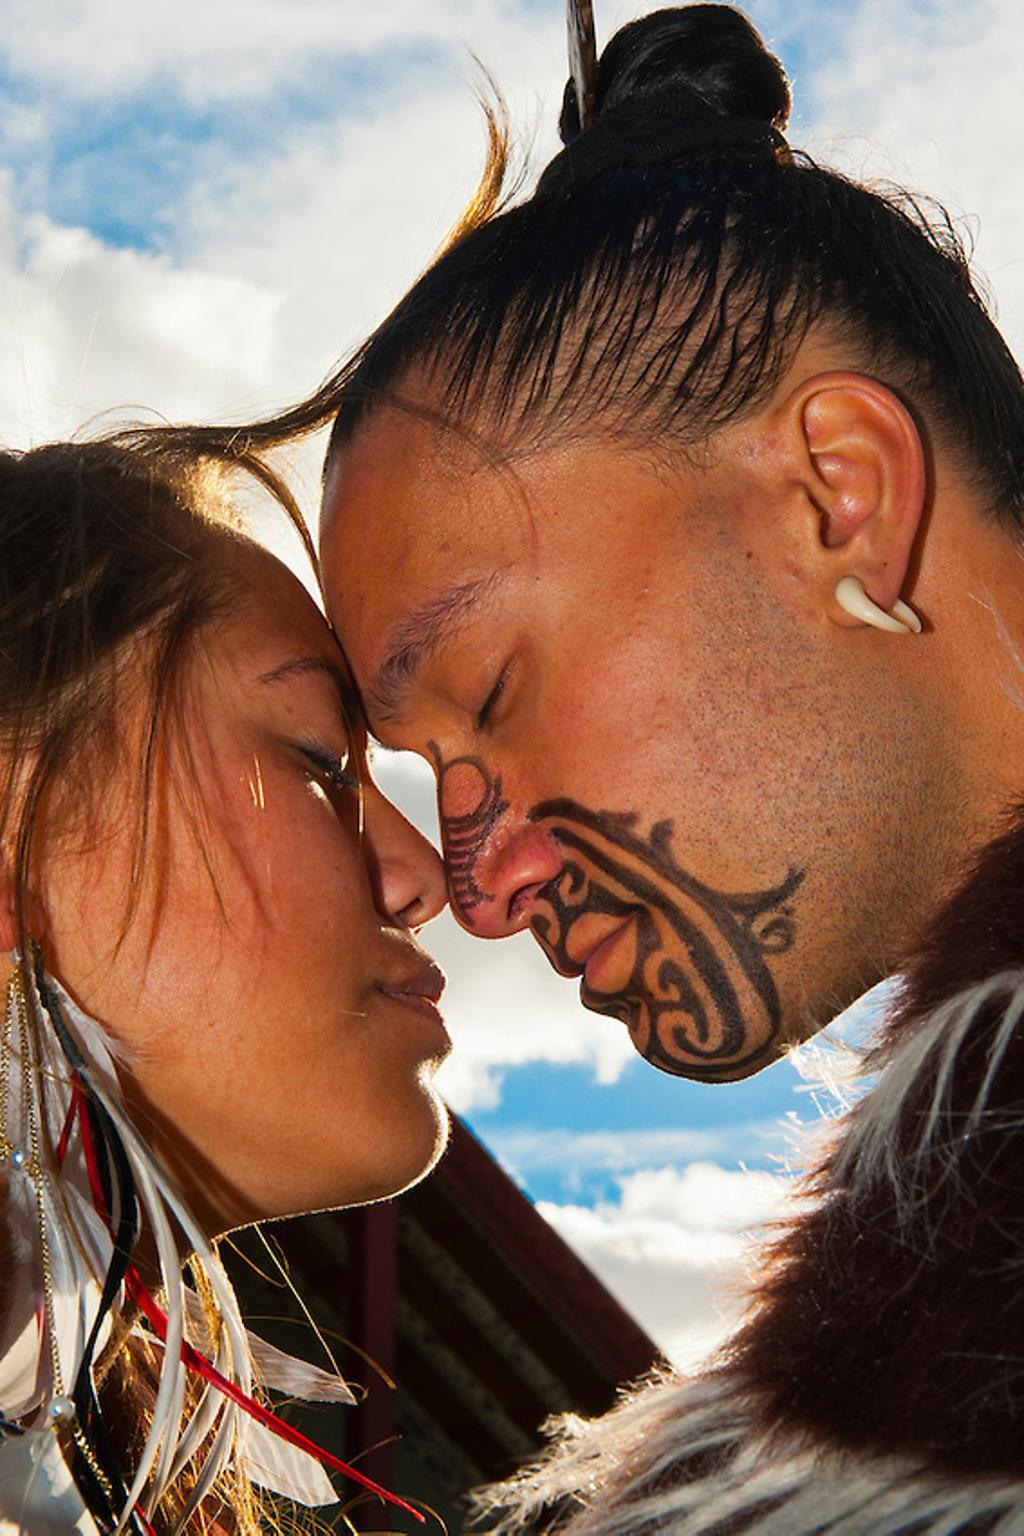face: (323, 431, 868, 1069), (45, 527, 446, 1180)
